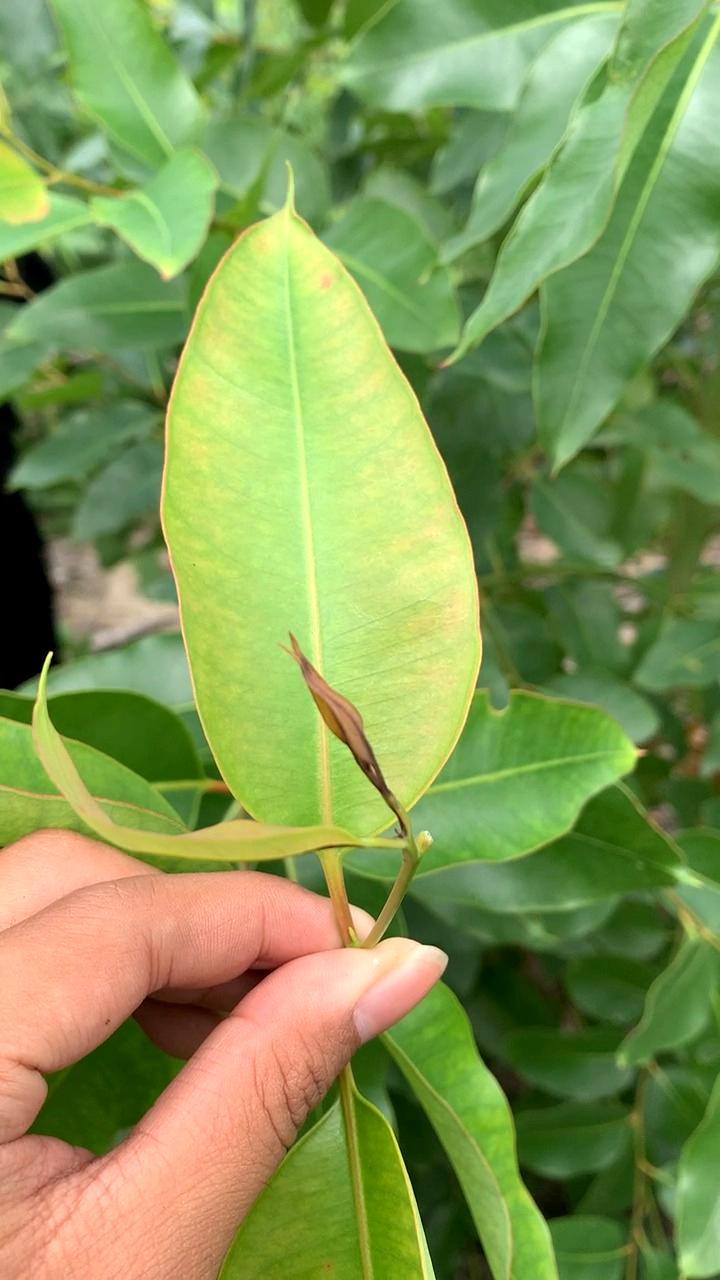Helopeltis-Withered Sprout: (276, 626, 427, 835)
